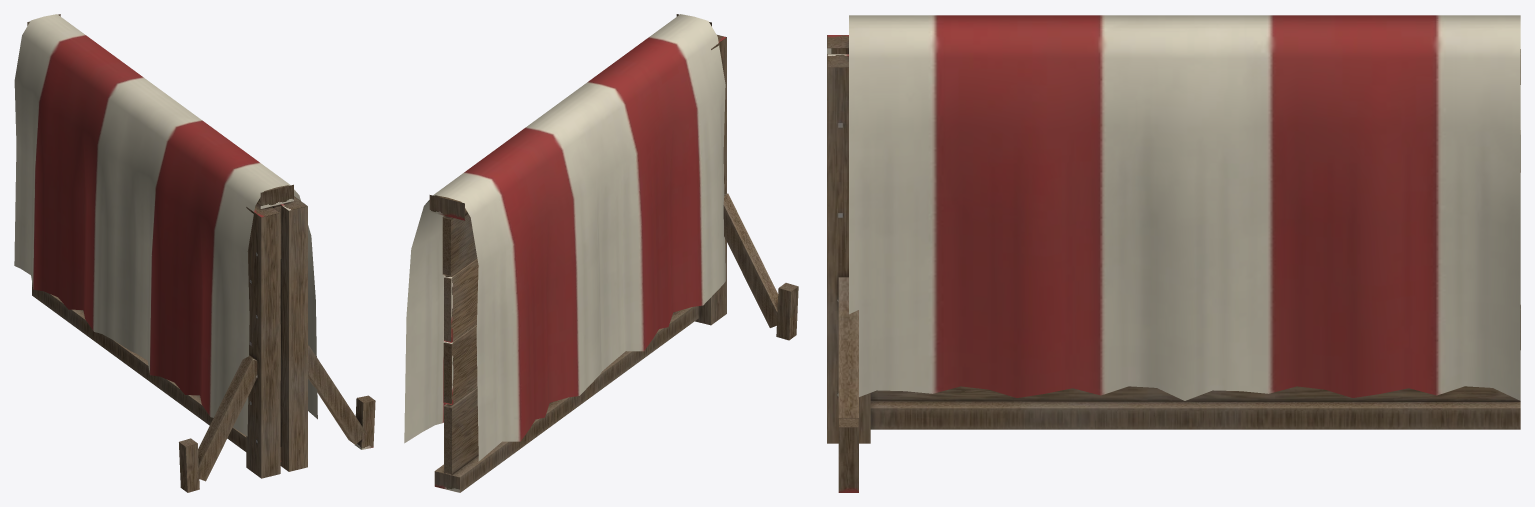
Rendered from tilt_barrier.glb.
The picture shows the model from 3 angles, left to right: view 1: azimuth 30°, elevation 25°; view 2: azimuth 150°, elevation 25°; view 3: azimuth 270°, elevation 25°; orthographic projection. The views are drawn at different scales.
Parts seen in each view (by area): view 1: tilt_cloth, tilt_barrier; view 2: tilt_cloth, tilt_barrier; view 3: tilt_cloth, tilt_barrier.
Boxes of the visible parts, <box> form: tilt_cloth: <box>14,14,317,436</box>; tilt_barrier: <box>27,14,375,492</box>; tilt_cloth: <box>404,14,725,461</box>; tilt_barrier: <box>429,14,798,492</box>; tilt_cloth: <box>849,15,1520,400</box>; tilt_barrier: <box>827,35,1520,492</box>.
Bounding box in the file's own units: 0.9397 × 1.33 × 2.07.
1 material, 1 textured.
